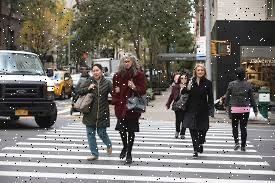car: (0, 48, 61, 133), (53, 68, 74, 98)
pedestrian: (109, 49, 149, 167), (77, 59, 116, 161), (186, 65, 215, 160), (225, 66, 253, 153), (169, 68, 188, 140)
